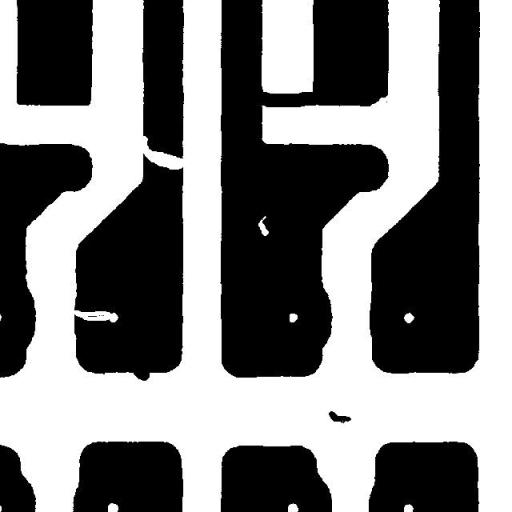copper: (321, 404, 358, 430)
mousebite: (362, 88, 398, 114)
open: (132, 128, 194, 177), (64, 302, 121, 328)
pin-hole: (250, 208, 276, 243)
short: (245, 84, 328, 114)
spur: (126, 359, 156, 388)
